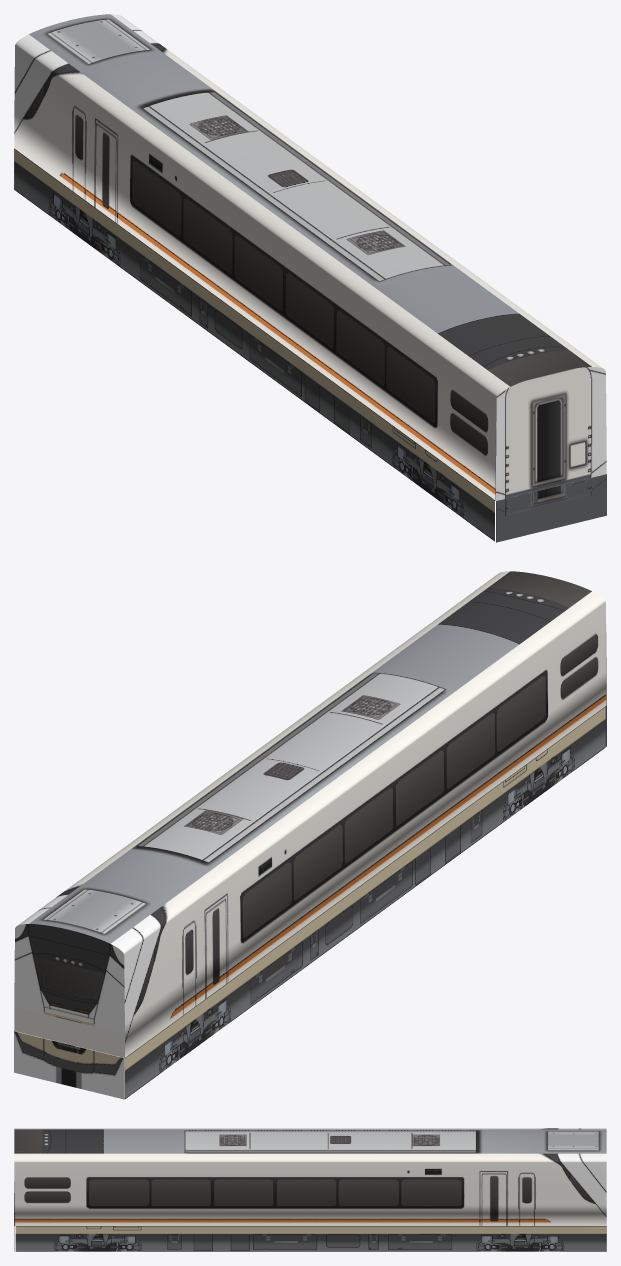
The model's file is car6.glb.
3 views of the same model, one above another, from view 1: azimuth 30°, elevation 25°; view 2: azimuth 150°, elevation 25°; view 3: azimuth 270°, elevation 25° (orthographic). The views are drawn at different scales.
Visible parts, largest first — view 1: kintetsu-21020-car6; view 2: kintetsu-21020-car6; view 3: kintetsu-21020-car6.
Part boxes in pixels (left/top/right/bottom): kintetsu-21020-car6: left=14, top=14, right=606, bottom=542; kintetsu-21020-car6: left=14, top=571, right=606, bottom=1099; kintetsu-21020-car6: left=14, top=1128, right=606, bottom=1251.
Size of the model in its own units: 2.8 by 3.77 by 21.13.
8 materials, 7 textured.
